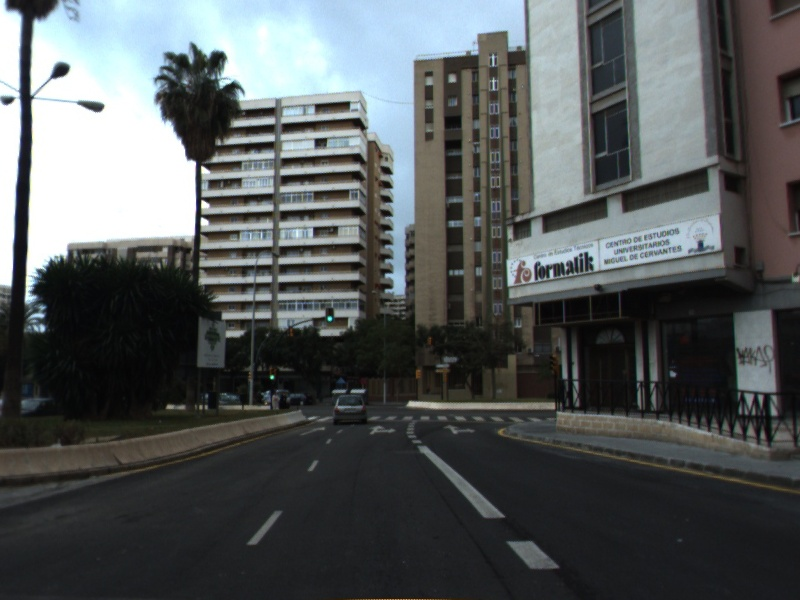STRAIGHT: (297, 424, 327, 438)
STRAIGHT_RIGHT: (440, 422, 479, 436), (366, 422, 399, 436)
